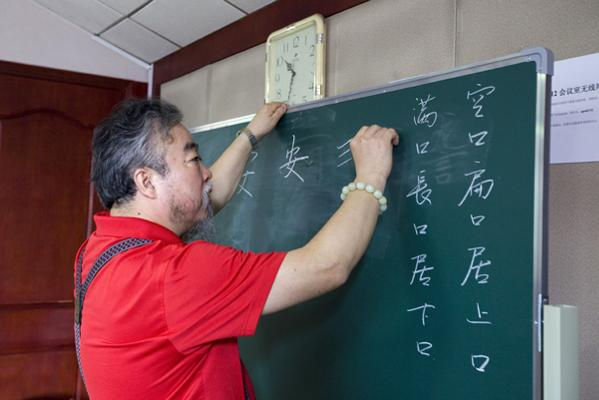person: (74, 101, 398, 400)
